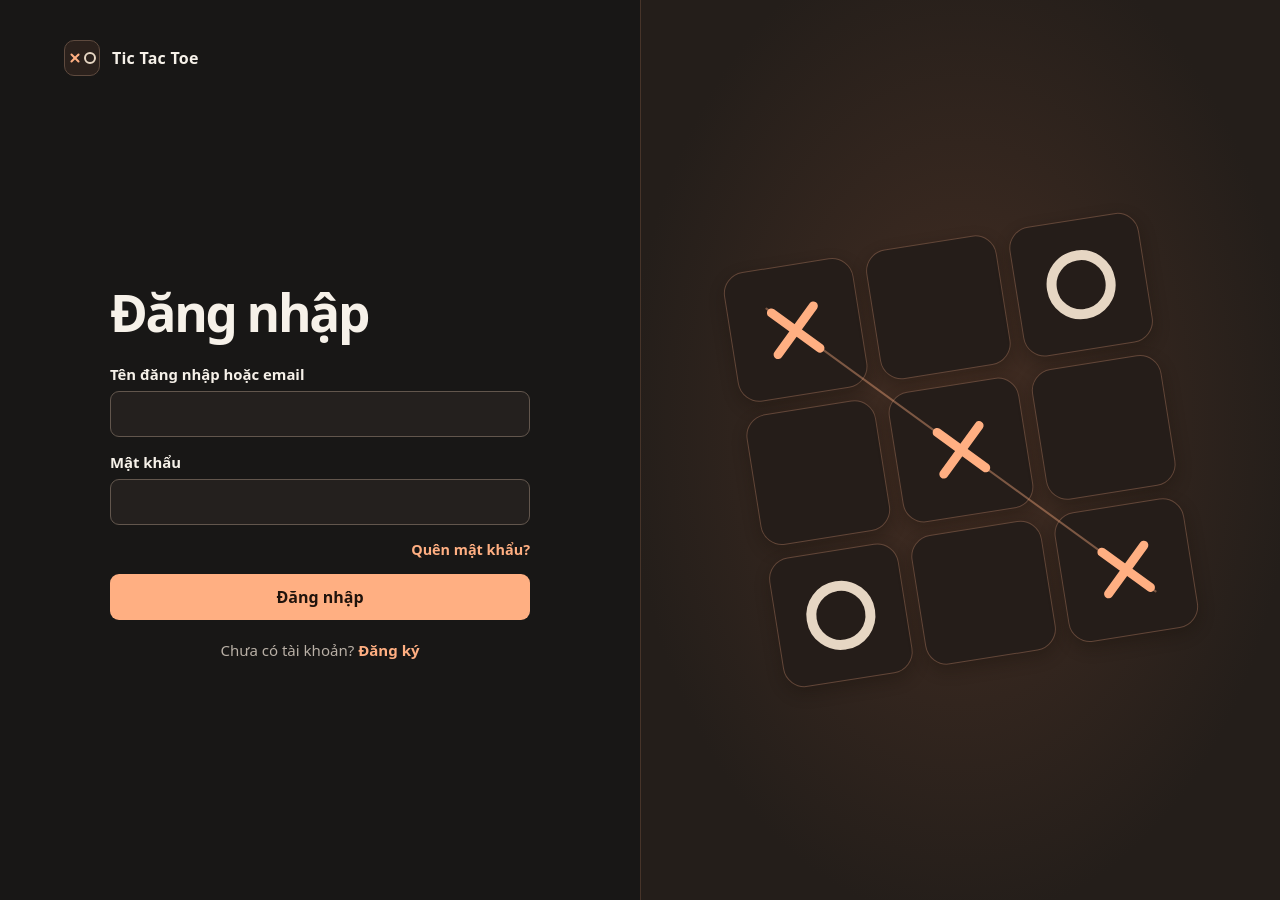
Scenario: Đăng ký tài khoản › hiển thị lỗi trùng email tại đúng ô
The image size is (1280, 900).
Click the button "Đăng ký" at (389, 650), box [358,640,420,660]
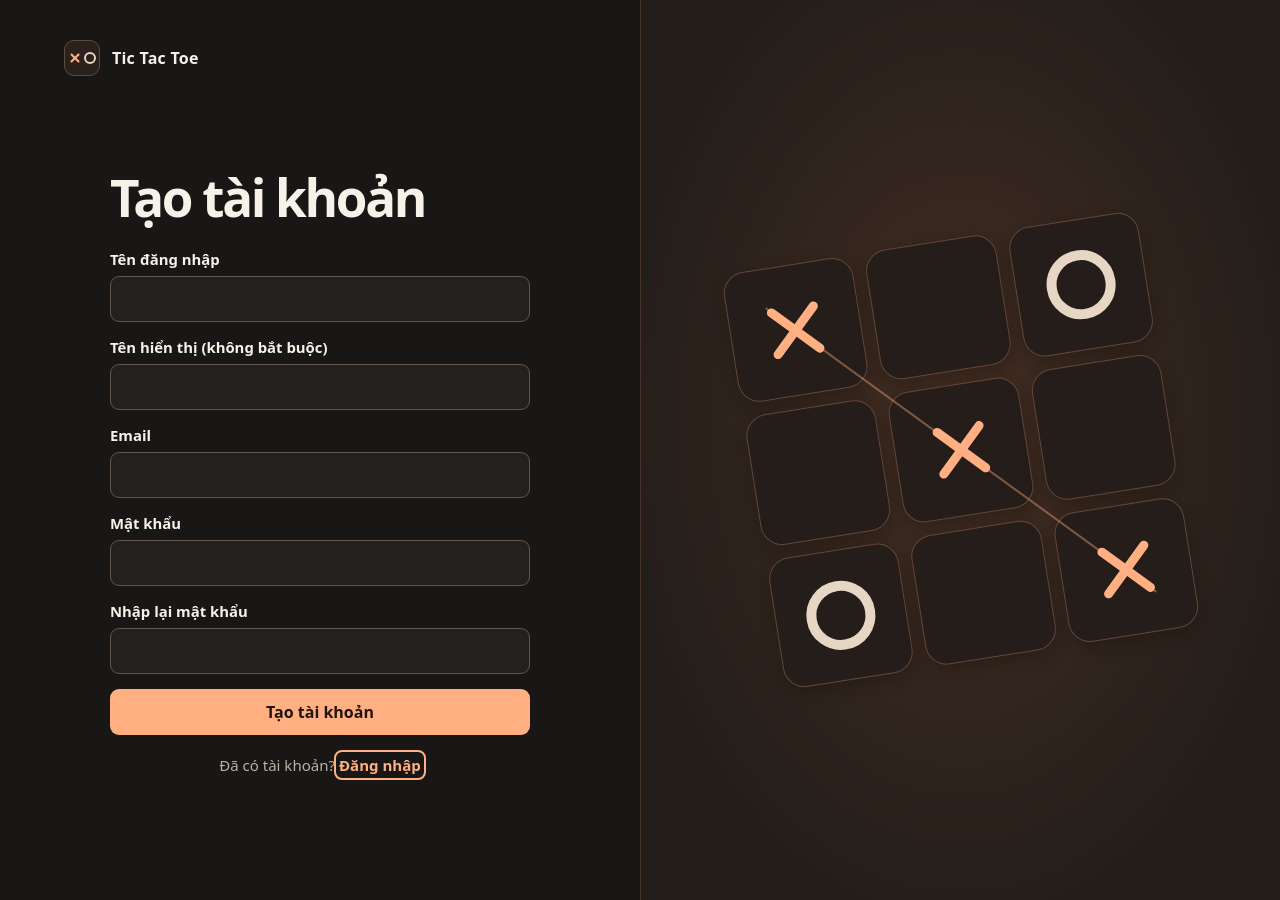
Type "player_one" into the field labelled "Tên đăng nhập" at (320, 299), box [110,276,530,322]
Type "Player One" into the field labelled "Tên hiển thị (không bắt buộc)" at (320, 387), box [110,364,530,410]
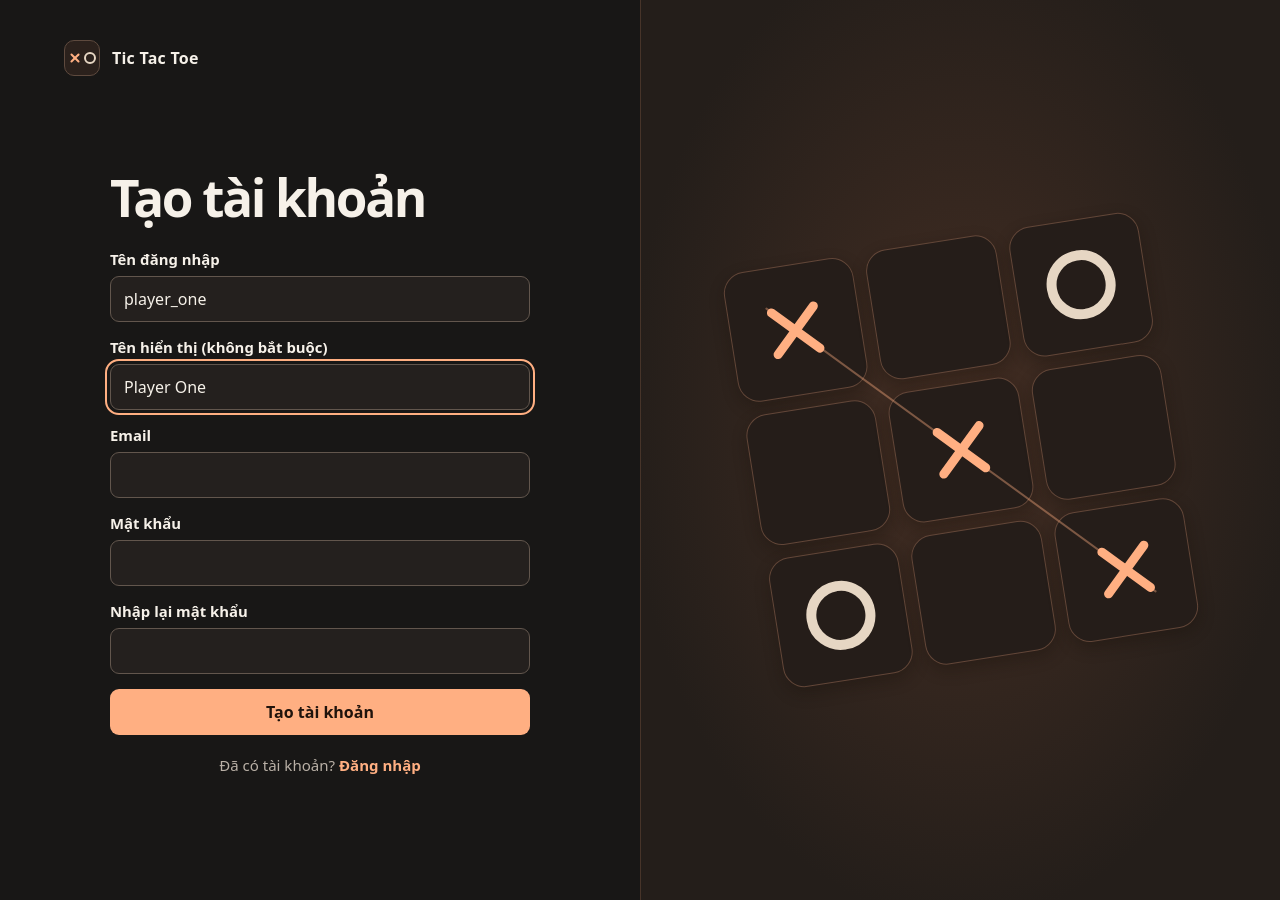
Type "player@example.test" into the field labelled "Email" at (320, 475), box [110,452,530,498]
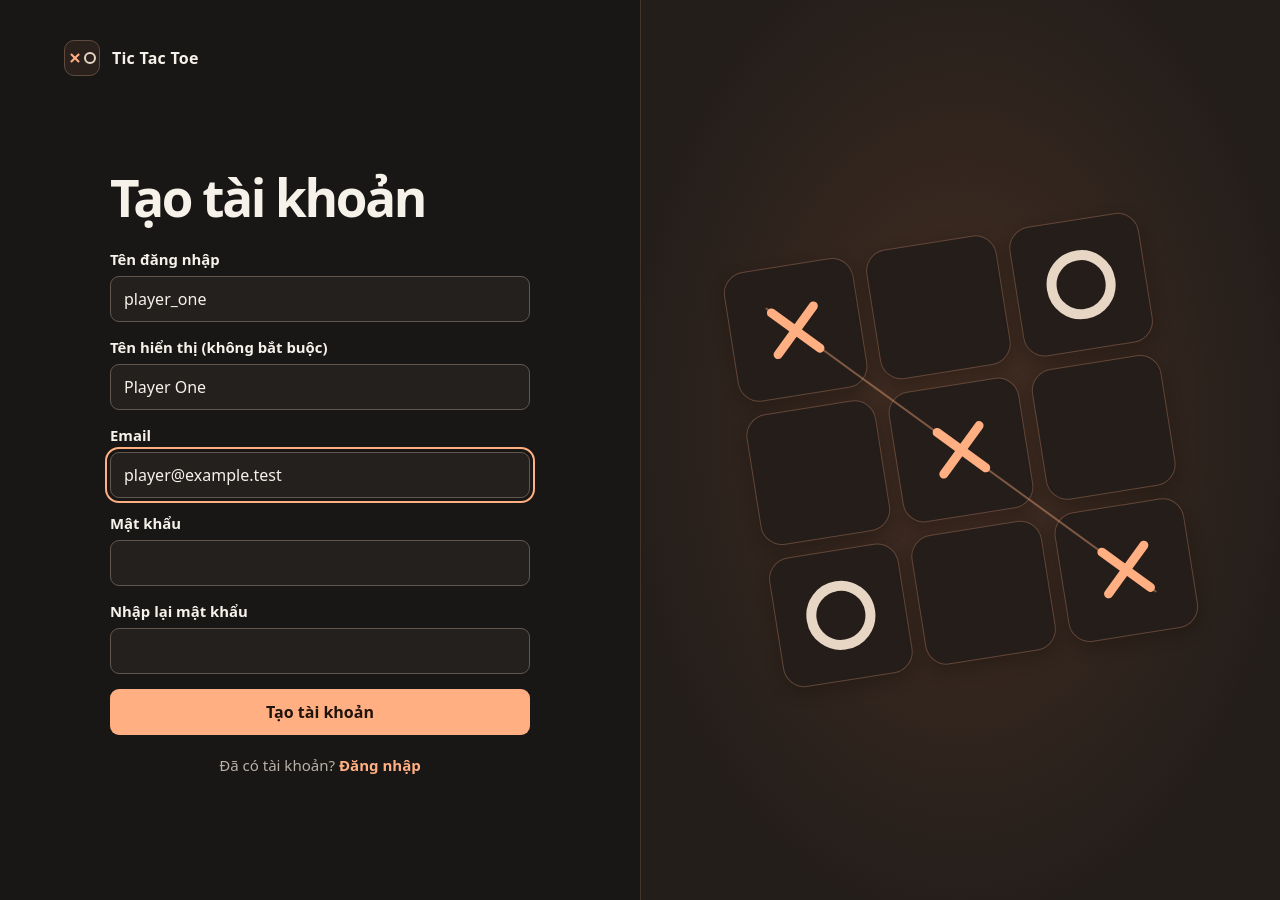
Type "password123" into the password field labelled "Mật khẩu" at (320, 563), box [110,540,530,586]
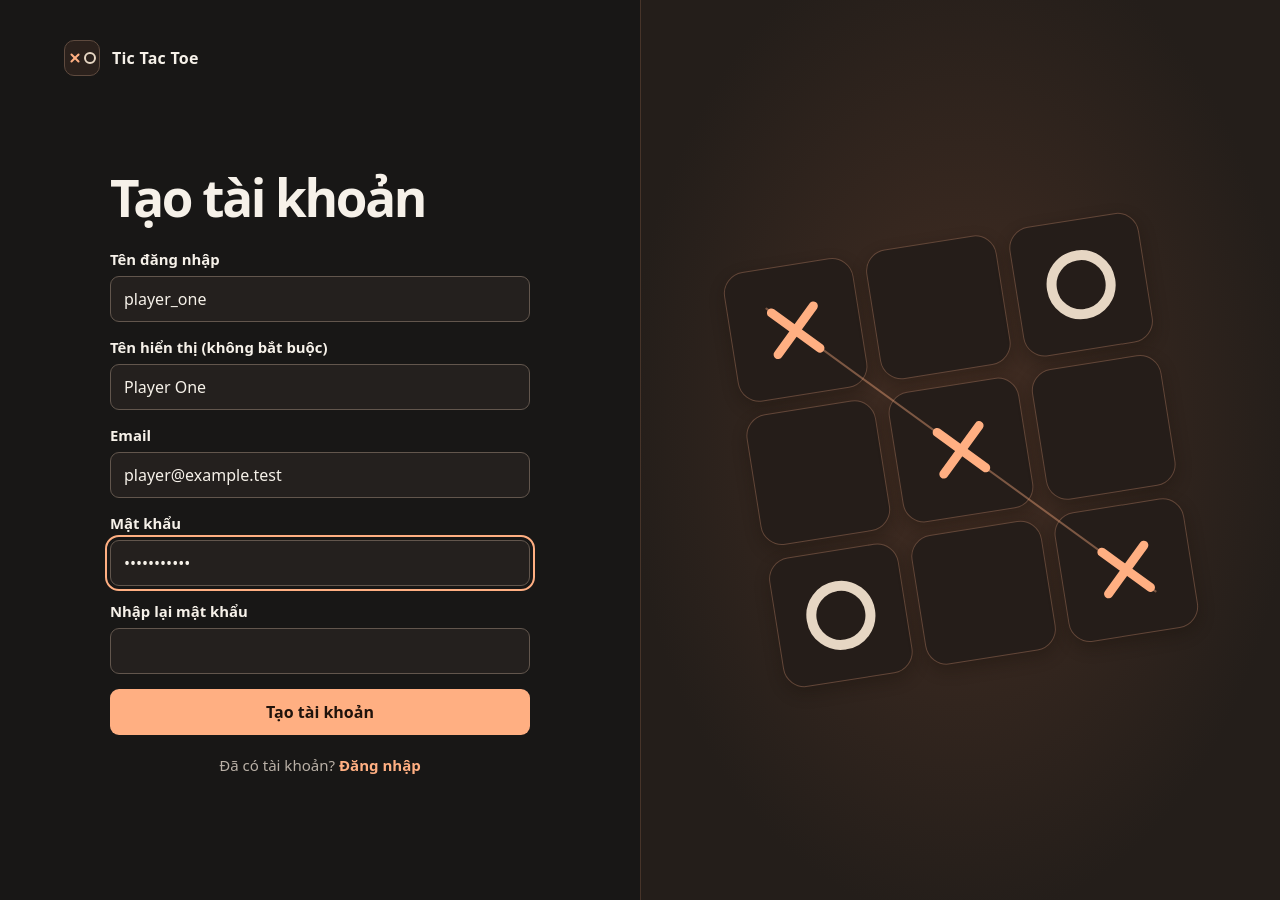
Type "password123" into the password field labelled "Nhập lại mật khẩu" at (320, 651), box [110,628,530,674]
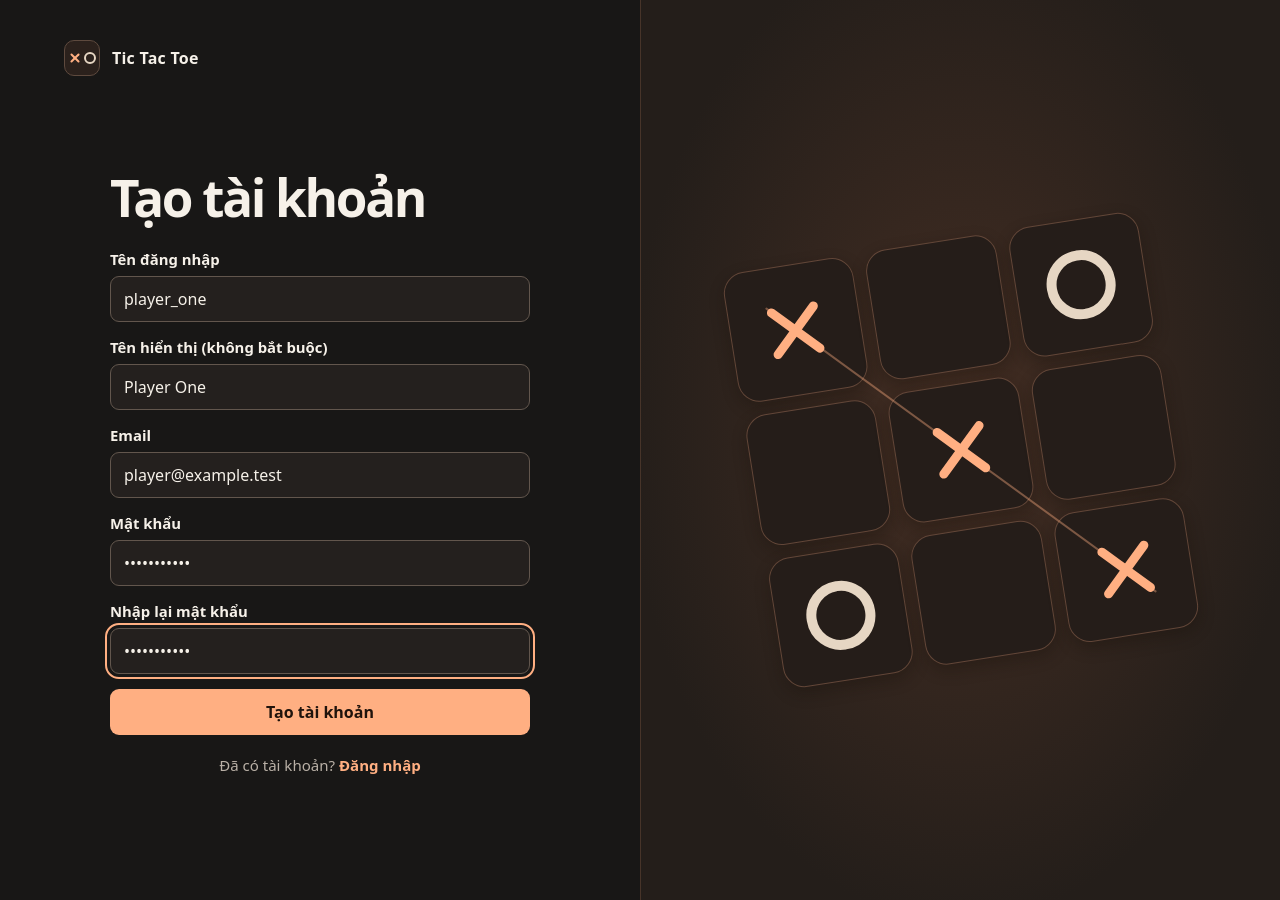
Click the button "Tạo tài khoản" at (320, 712), box [110,689,530,735]
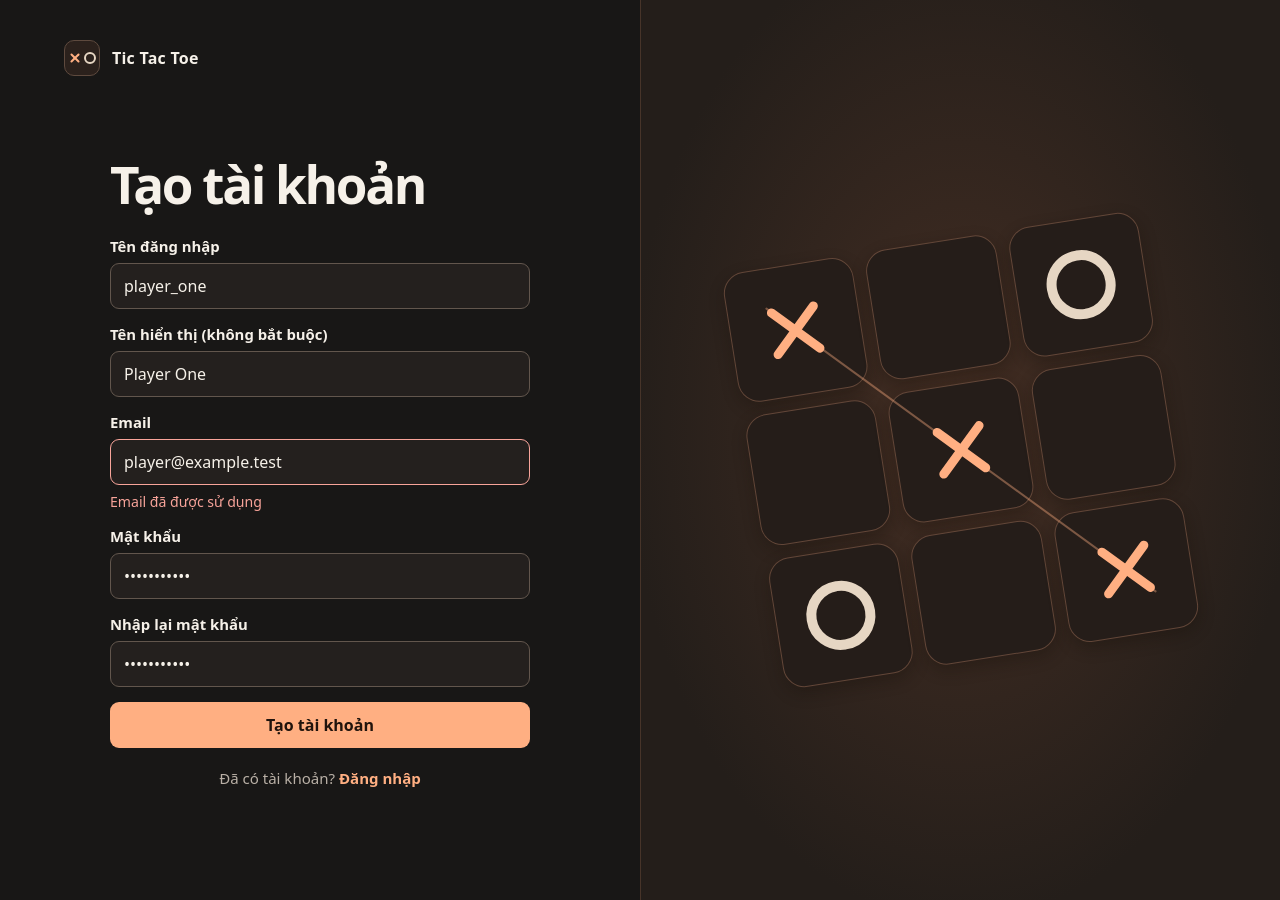
Expected: the text "Email đã được sử dụng" is shown, [110,492,262,511]
